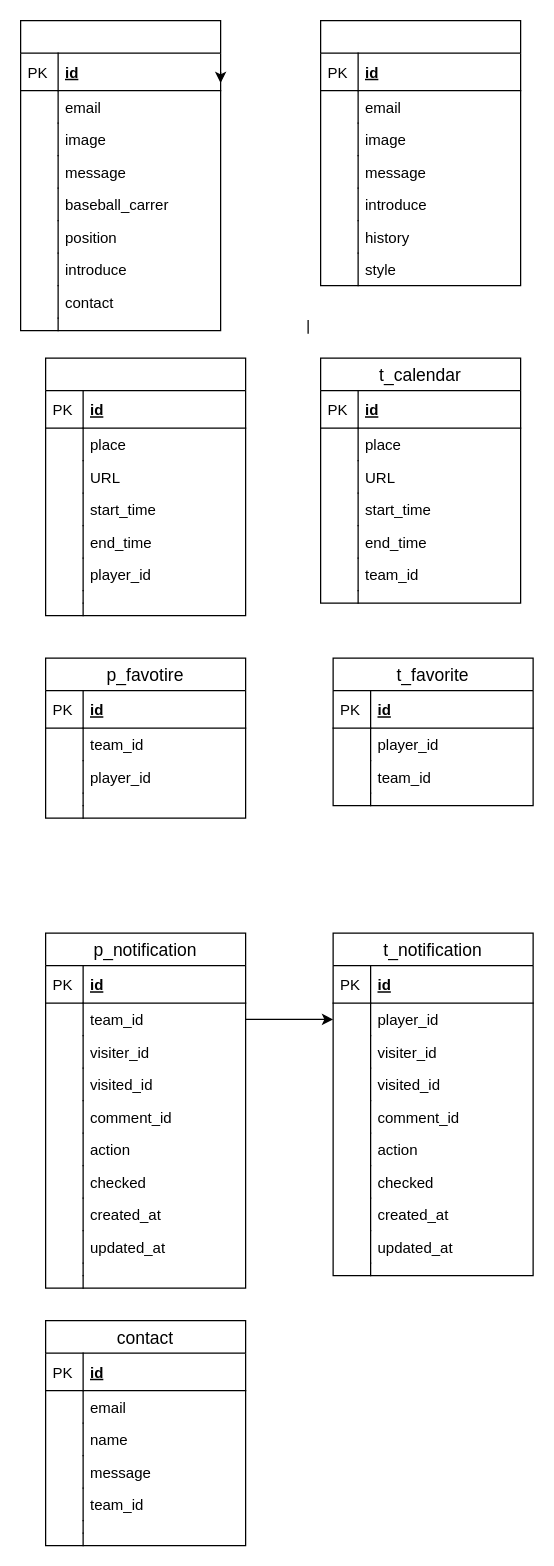
This 554x1566 diagram has some shape labels left out. The box of each missing label's shape, as (x1, y1, x2, y2) in pixels:
p_calendar: (44, 357, 246, 616)
players: (19, 19, 221, 331)
teams: (319, 19, 521, 286)
